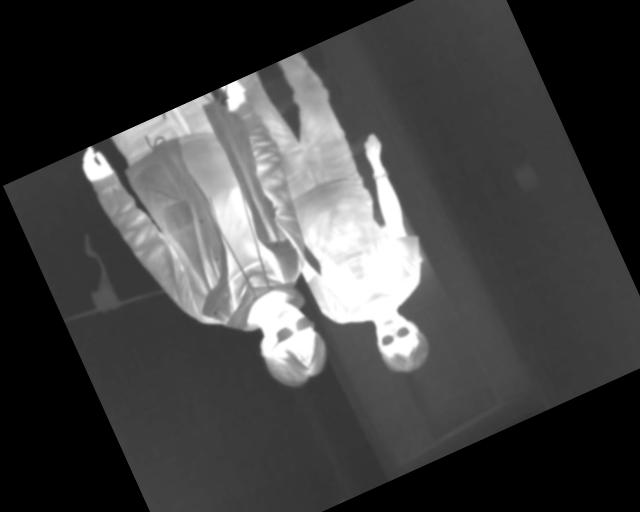face: (244, 293, 336, 397), (363, 300, 435, 382)
